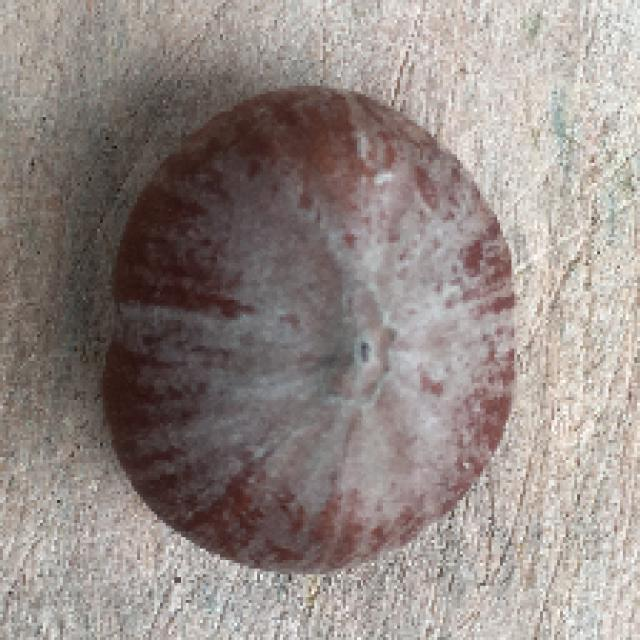qualityHazelnut: (102, 83, 522, 574)
